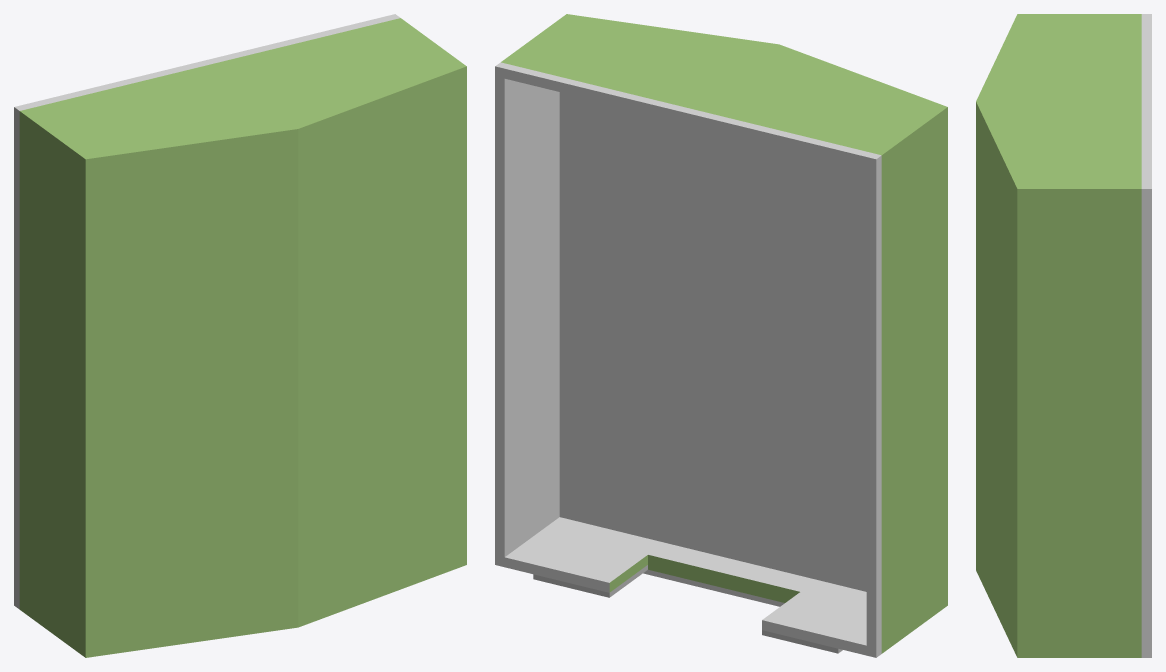
The model's file is hangar_open.dae.
3 renders of one model, left to right at view 1: azimuth 30°, elevation 25°; view 2: azimuth 150°, elevation 25°; view 3: azimuth 270°, elevation 25°, orthographic. The views are drawn at different scales.
Parts seen in each view (by area): view 1: coords_ME_ID11_MA_Color_F09_, coords_ME_ID37_MA_material_8; view 2: coords_ME_ID37_MA_material_8, coords_ME_ID11_MA_Color_F09_, coords_ME_ID45_MA_material_8, coords_ME_ID25_MA_material_11; view 3: coords_ME_ID11_MA_Color_F09_, coords_ME_ID37_MA_material_8.
Part boxes in pixels (x1,y1,x2,y2): coords_ME_ID11_MA_Color_F09_: [19, 18, 466, 657]; coords_ME_ID37_MA_material_8: [14, 14, 400, 609]; coords_ME_ID37_MA_material_8: [495, 62, 881, 657]; coords_ME_ID11_MA_Color_F09_: [501, 14, 947, 653]; coords_ME_ID45_MA_material_8: [643, 569, 784, 606]; coords_ME_ID25_MA_material_11: [533, 565, 647, 597]; coords_ME_ID11_MA_Color_F09_: [976, 14, 1141, 657]; coords_ME_ID37_MA_material_8: [1141, 14, 1151, 657].
Size of the model in its own units: 157 by 201 by 66.93.
